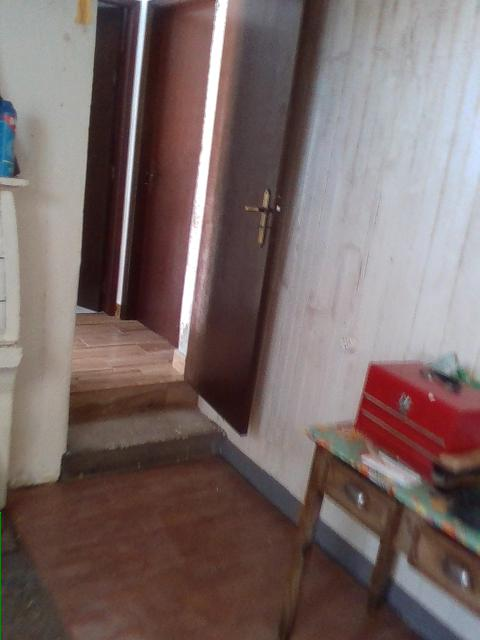door: (192, 1, 306, 435), (136, 5, 211, 347)
